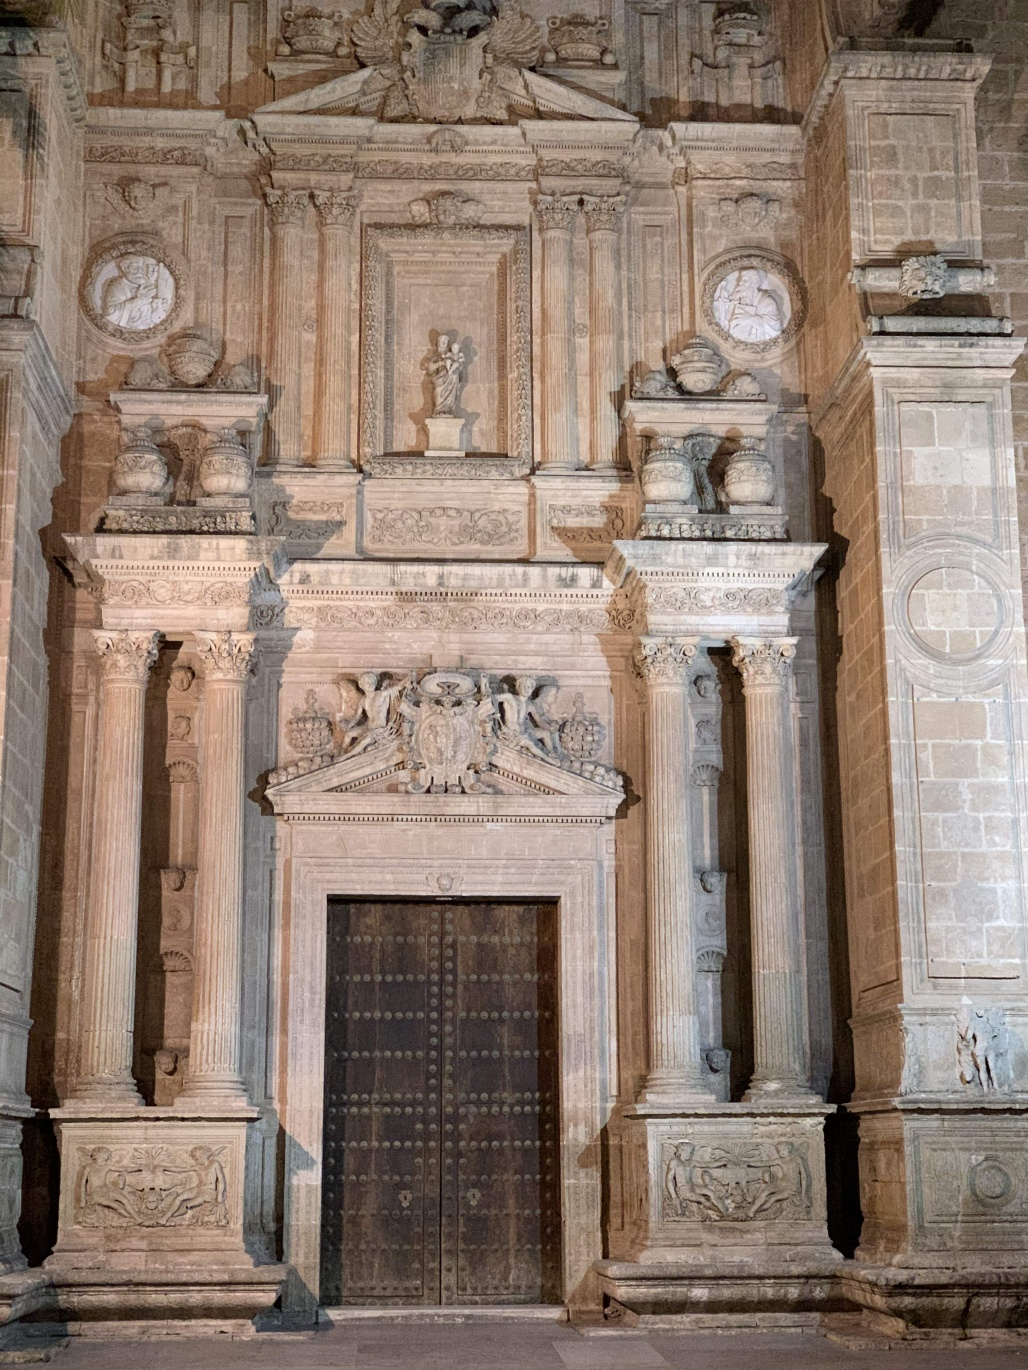fronton: (254, 708, 633, 822)
fronton-partido: (244, 48, 644, 140)
vano-adintelado: (284, 858, 604, 1327), (359, 215, 540, 481)
